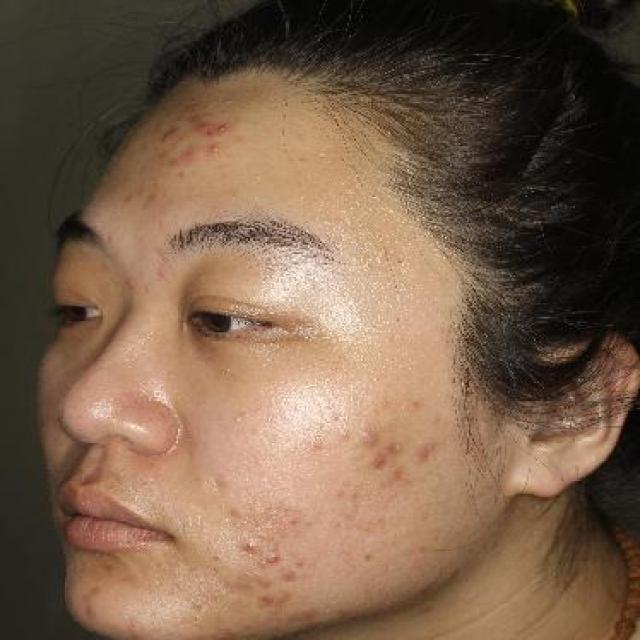nodules: (354, 425, 387, 448), (360, 451, 391, 471), (259, 546, 283, 566), (414, 443, 436, 460), (240, 536, 257, 553)
